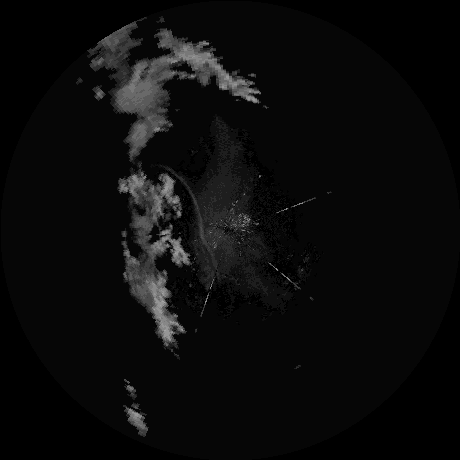frontgust: (169, 169, 217, 278)
